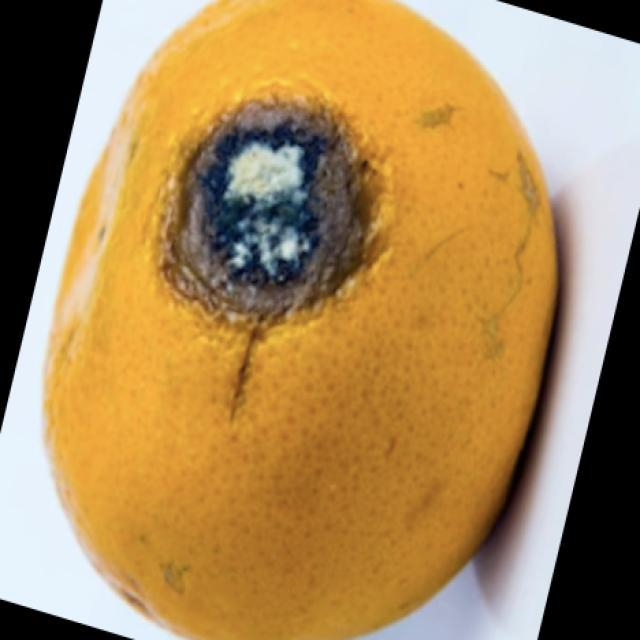sedikit-busuk: (45, 0, 555, 639), (169, 101, 366, 323)
